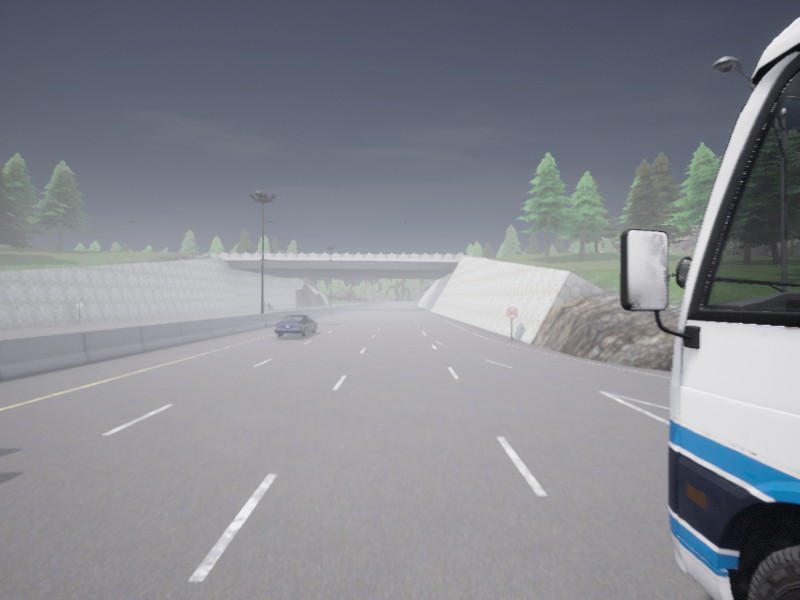vehicle: (621, 17, 799, 599), (274, 315, 317, 336)
